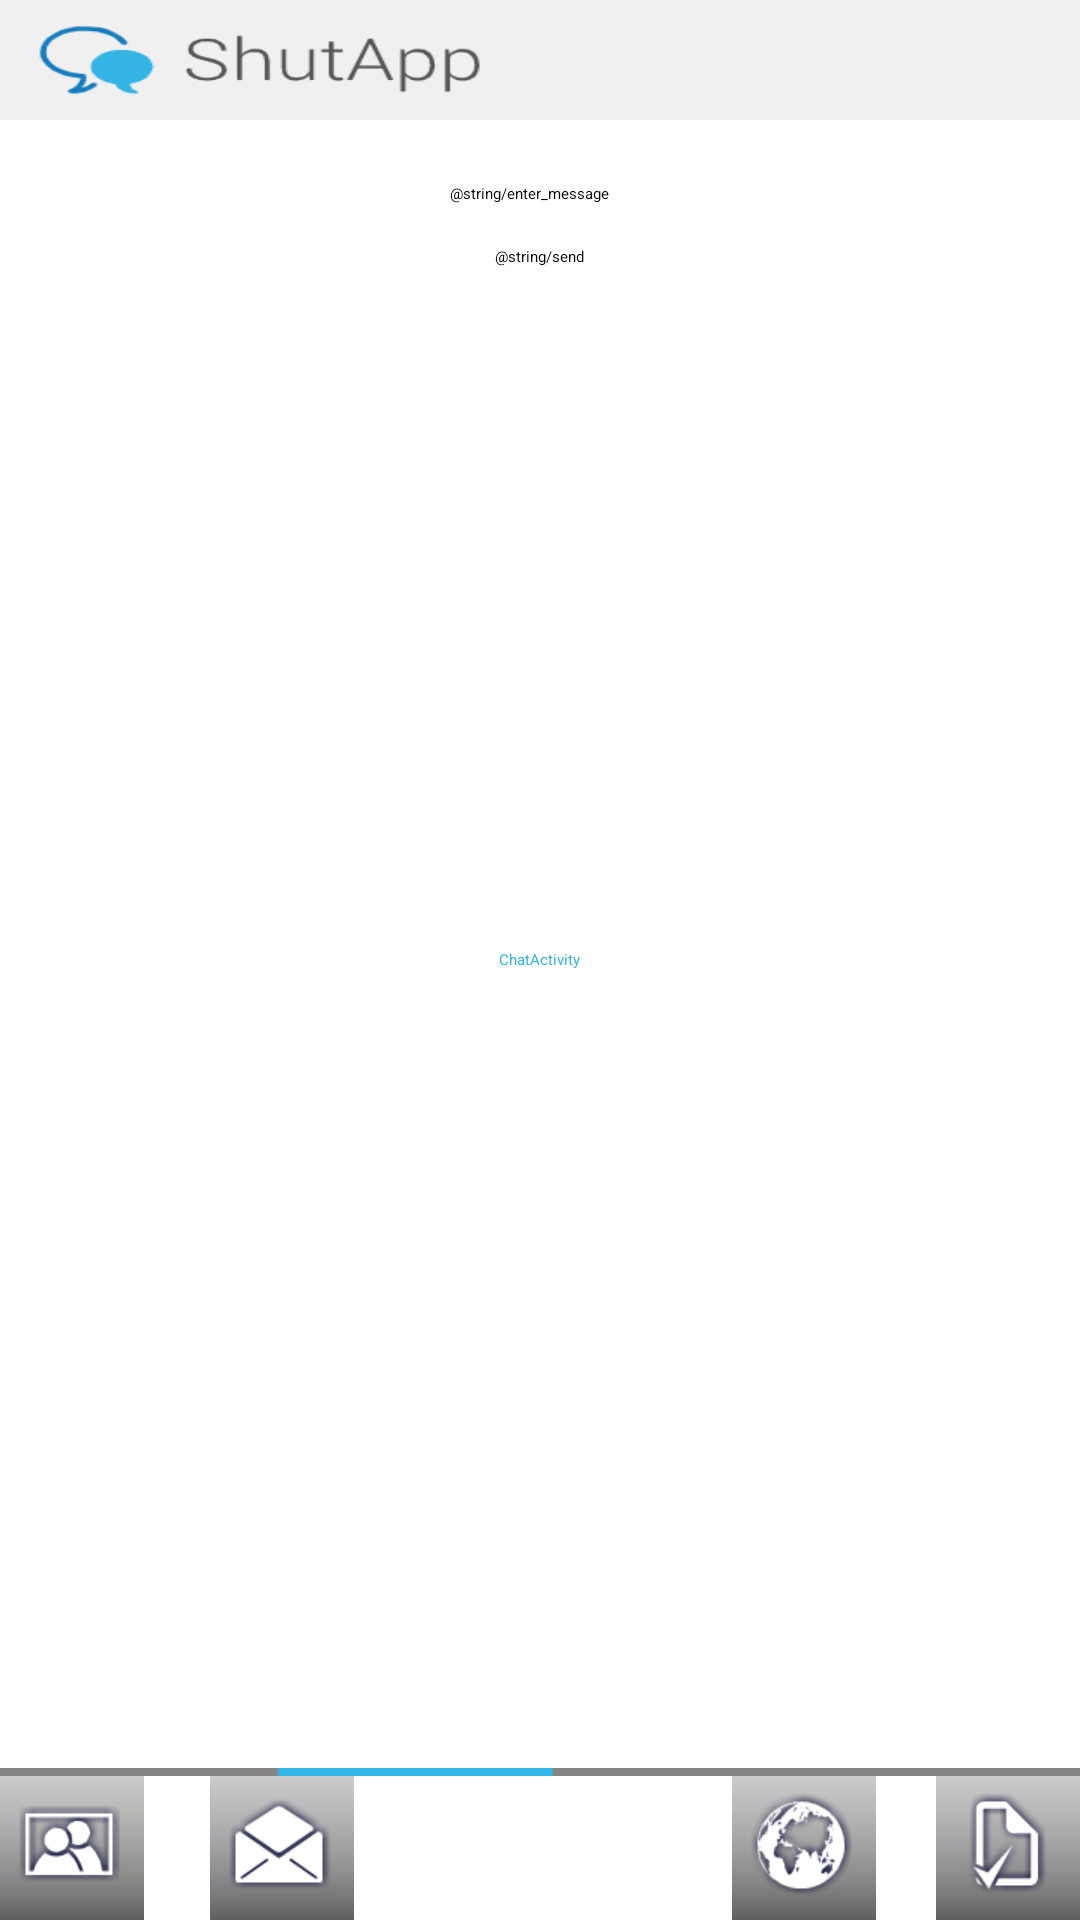

Named icons in this screenshot (1080 x 1920) and their centers, [x,y]:
location map: [804,1848]
social group: [72,1848]
